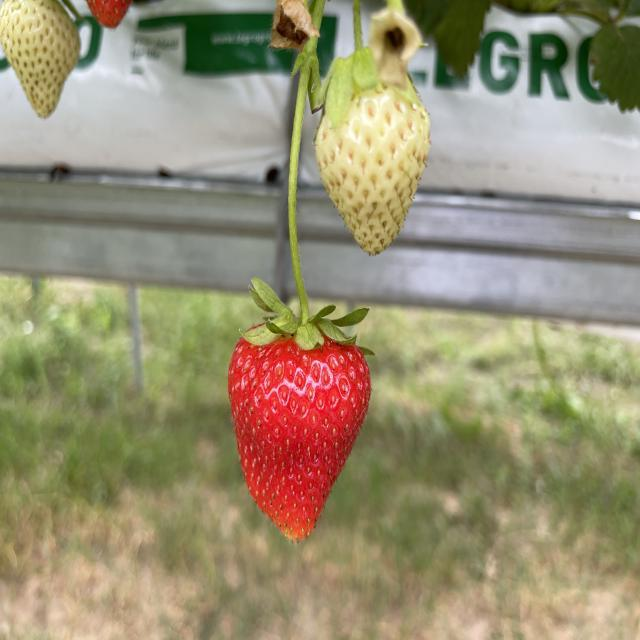stem: (244, 32, 364, 348), (40, 0, 75, 13)
strawberryNR: (316, 87, 427, 253), (2, 0, 77, 116)
strawberryR: (227, 340, 369, 539), (85, 0, 131, 26)
